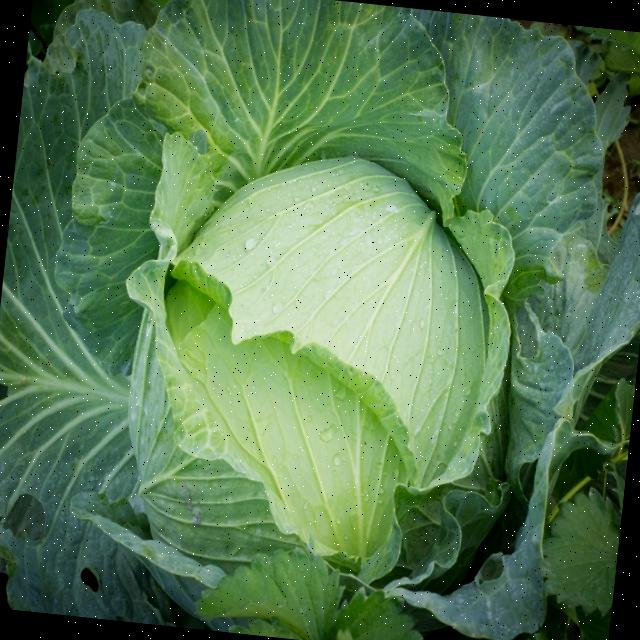cabbage: (18, 37, 639, 640)
